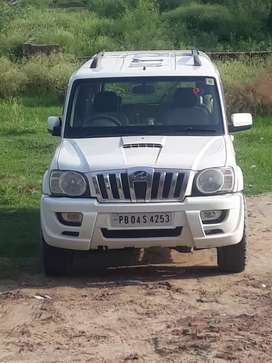PB04S4253: (112, 213, 173, 225)
